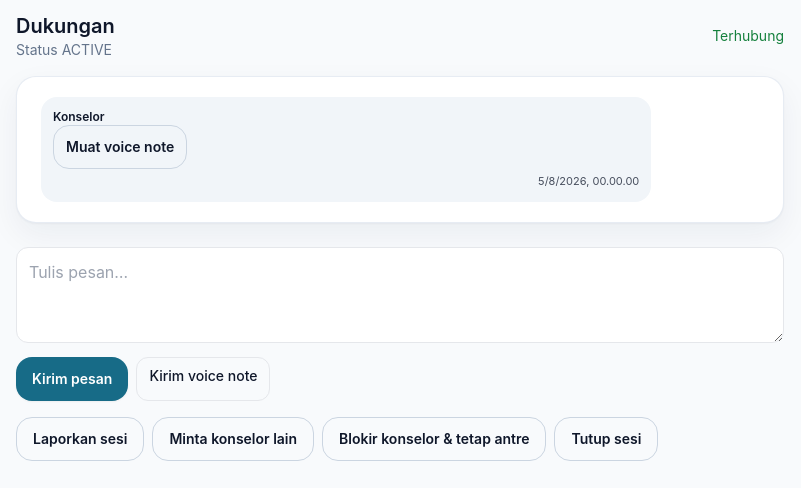
Test: voice note exposes keyboard-native play and pause controls after authorized URL resolution
This screenshot has width=801, height=488.
Step 1. Click the button "Muat voice note" → [120, 147], box [53,125,187,169]
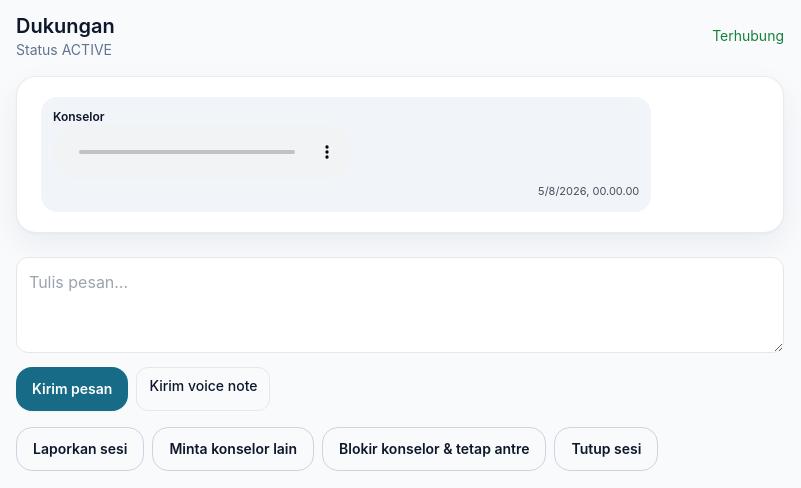
Expected: the text "Browser Anda tidak mendukung audio." is shown, [53,125,353,179]
